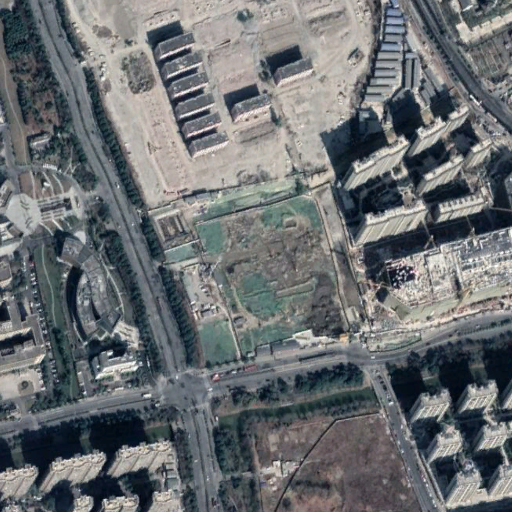cw: (167, 175, 352, 366)
